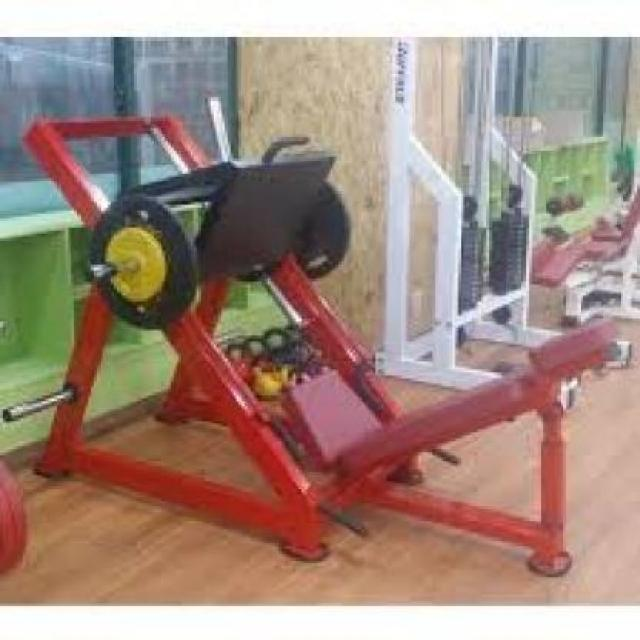leg press: (4, 91, 636, 595)
